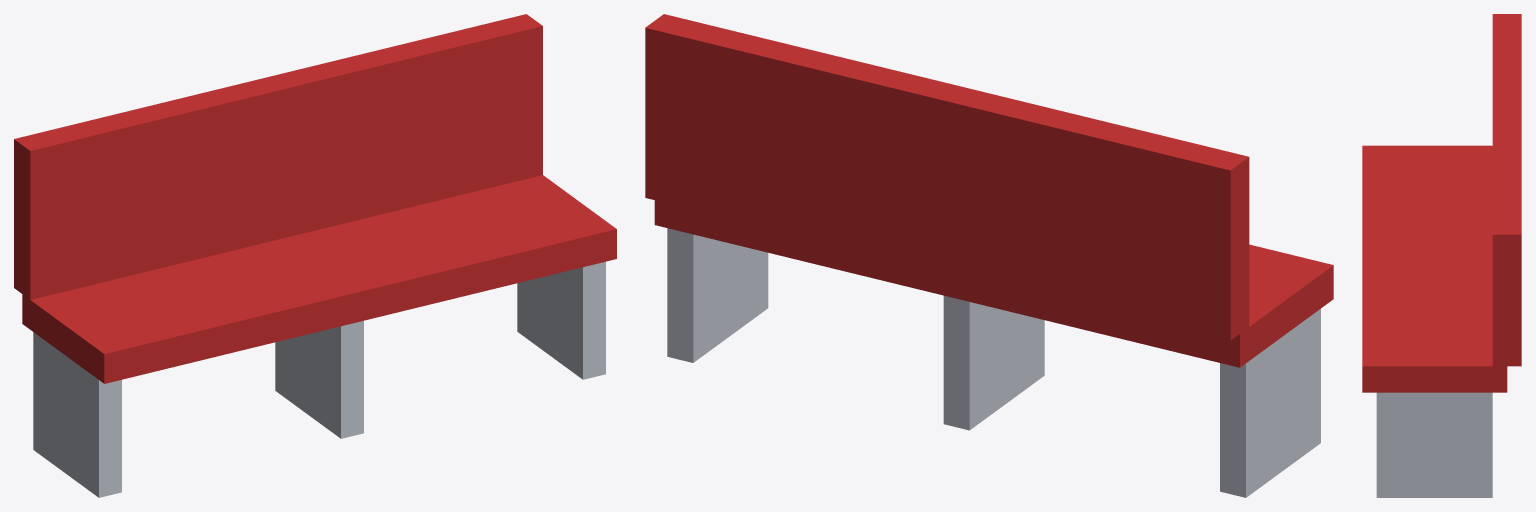
The model's file is lane_seating.glb.
3 renders of one model, left to right at view 1: azimuth 30°, elevation 25°; view 2: azimuth 150°, elevation 25°; view 3: azimuth 270°, elevation 25°, orthographic. The views are drawn at different scales.
Visible parts, largest first — view 1: lane_seating; view 2: lane_seating; view 3: lane_seating.
Part boxes in pixels (<box>): lane_seating: <box>14,14,616,497</box>; lane_seating: <box>645,14,1333,497</box>; lane_seating: <box>1362,14,1521,497</box>.
Bounding box in the file's own units: 1.8 × 1 × 0.55.
